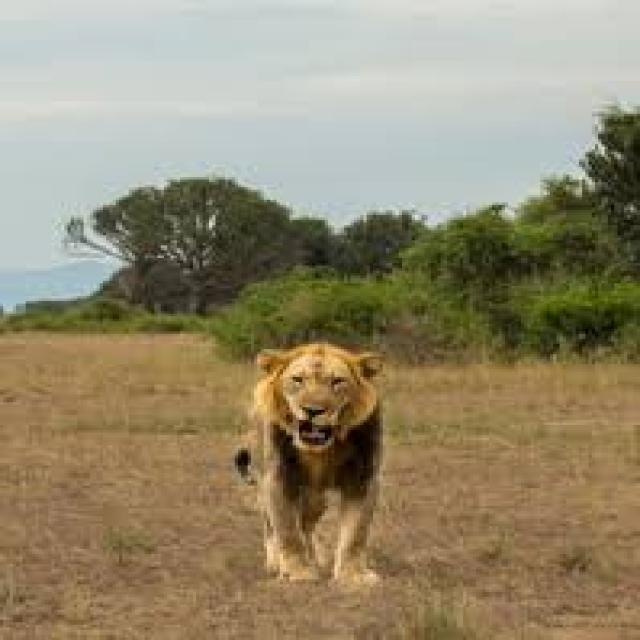Lion: (229, 337, 392, 582)
